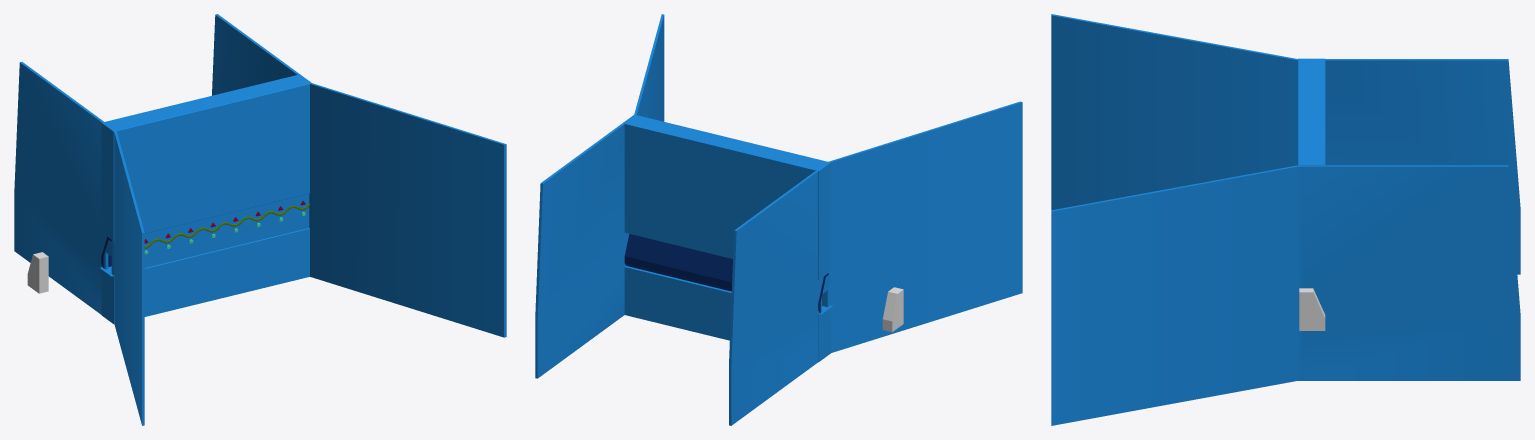
File: archfbx.fbx
3 renders of one model, left to right at view 1: azimuth 30°, elevation 25°; view 2: azimuth 150°, elevation 25°; view 3: azimuth 270°, elevation 25°, orthographic. The views are drawn at different scales.
Parts seen in each view (by area): view 1: Cube.007, Cube.011, Cube.010, Cube.014, Cube.008, BezierCurve.001; view 2: Cube.007, Cube.011, Cube.010, Cube.006, Cube.008; view 3: Cube.007, Cube.011, Cube.008.
Part boxes in pixels (bbox=[...]): Cube.007: bbox=[14, 14, 506, 425]; Cube.011: bbox=[101, 75, 309, 241]; Cube.010: bbox=[100, 228, 309, 324]; Cube.014: bbox=[144, 194, 309, 267]; Cube.008: bbox=[27, 252, 48, 293]; BezierCurve.001: bbox=[144, 203, 309, 248]; Cube.007: bbox=[535, 14, 1022, 425]; Cube.011: bbox=[624, 115, 831, 279]; Cube.010: bbox=[624, 266, 833, 362]; Cube.006: bbox=[624, 234, 828, 313]; Cube.008: bbox=[882, 287, 903, 332]; Cube.007: bbox=[1051, 14, 1520, 425]; Cube.011: bbox=[1298, 58, 1325, 165]; Cube.008: bbox=[1299, 288, 1325, 330].
Bounding box in the file's own units: 4684 × 2370 × 4698.
